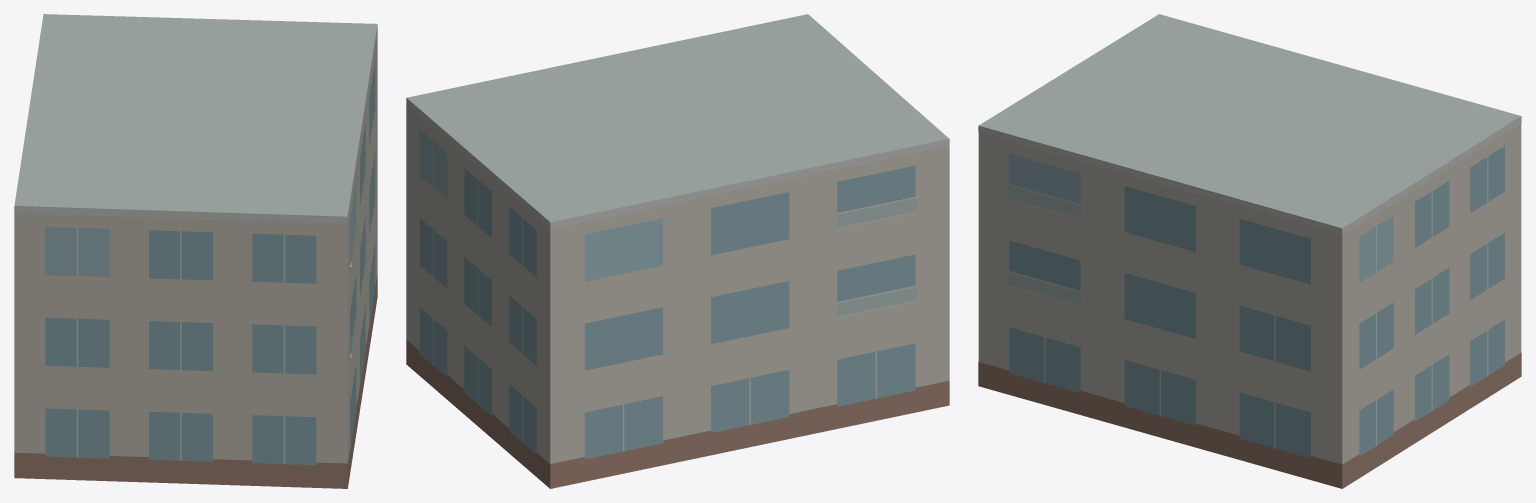
Rendered from survey-upis-32703968.glb.
The picture shows the model from 3 angles, left to right: view 1: azimuth 30°, elevation 25°; view 2: azimuth 150°, elevation 25°; view 3: azimuth 270°, elevation 25°; orthographic projection. The views are drawn at different scales.
Parts seen in each view (by area): view 1: survey-upis-32703968.tmp; view 2: survey-upis-32703968.tmp; view 3: survey-upis-32703968.tmp.
Boxes of the visible parts, x1,y1,x2,y2 form: survey-upis-32703968.tmp: [14, 14, 377, 488]; survey-upis-32703968.tmp: [406, 14, 949, 488]; survey-upis-32703968.tmp: [978, 14, 1521, 488].
Bounding box in the file's own units: 16.15 × 9.15 × 17.29.
